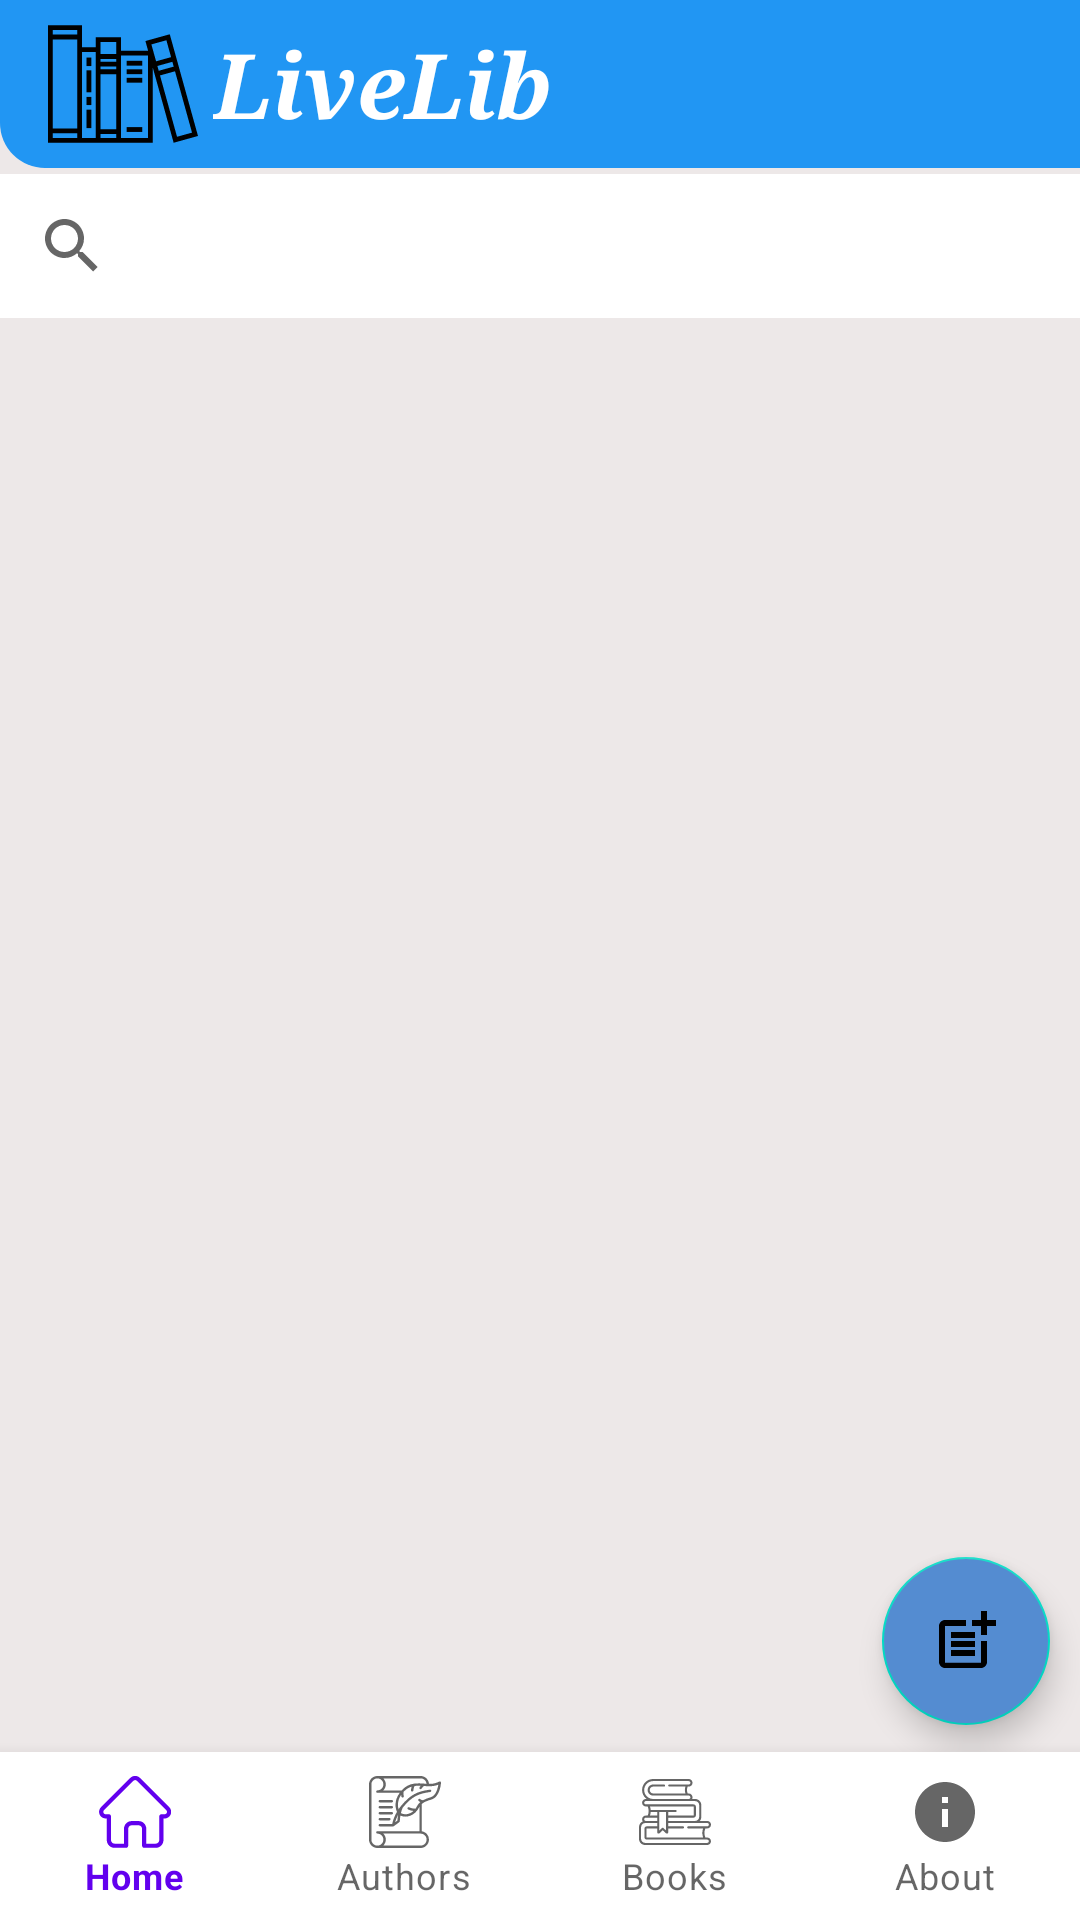

Where to tap for icons on this 1080w x 1920h app screen, as (x=x, y=y):
post add: (x=966, y=1641)
